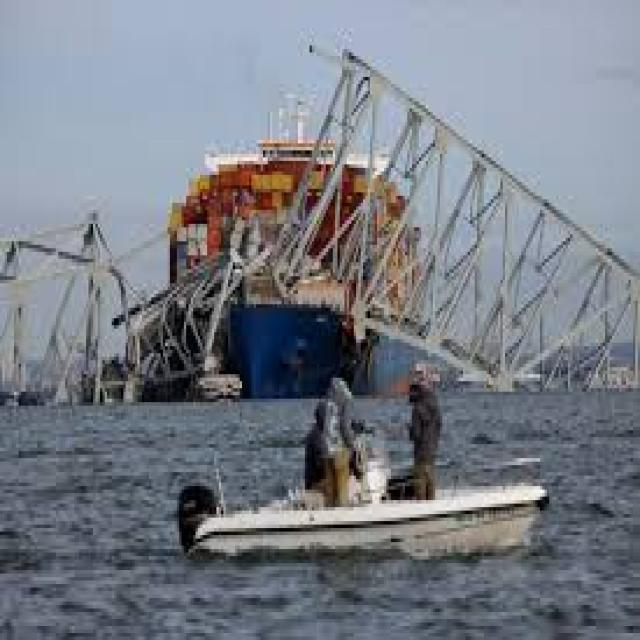bridge collapse: (3, 0, 536, 360)
